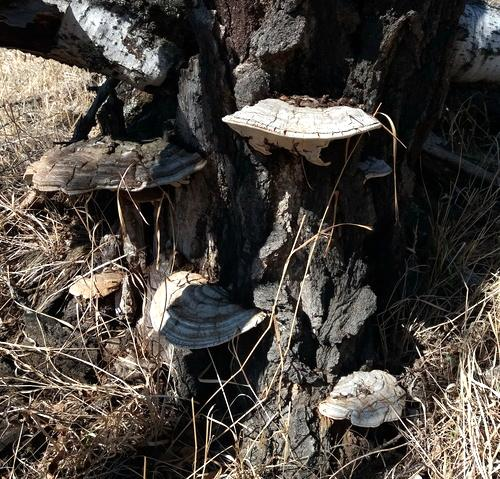Ganoderma - Fruit Body: (25, 130, 207, 197), (221, 96, 384, 166), (150, 267, 263, 350), (320, 371, 405, 424)
